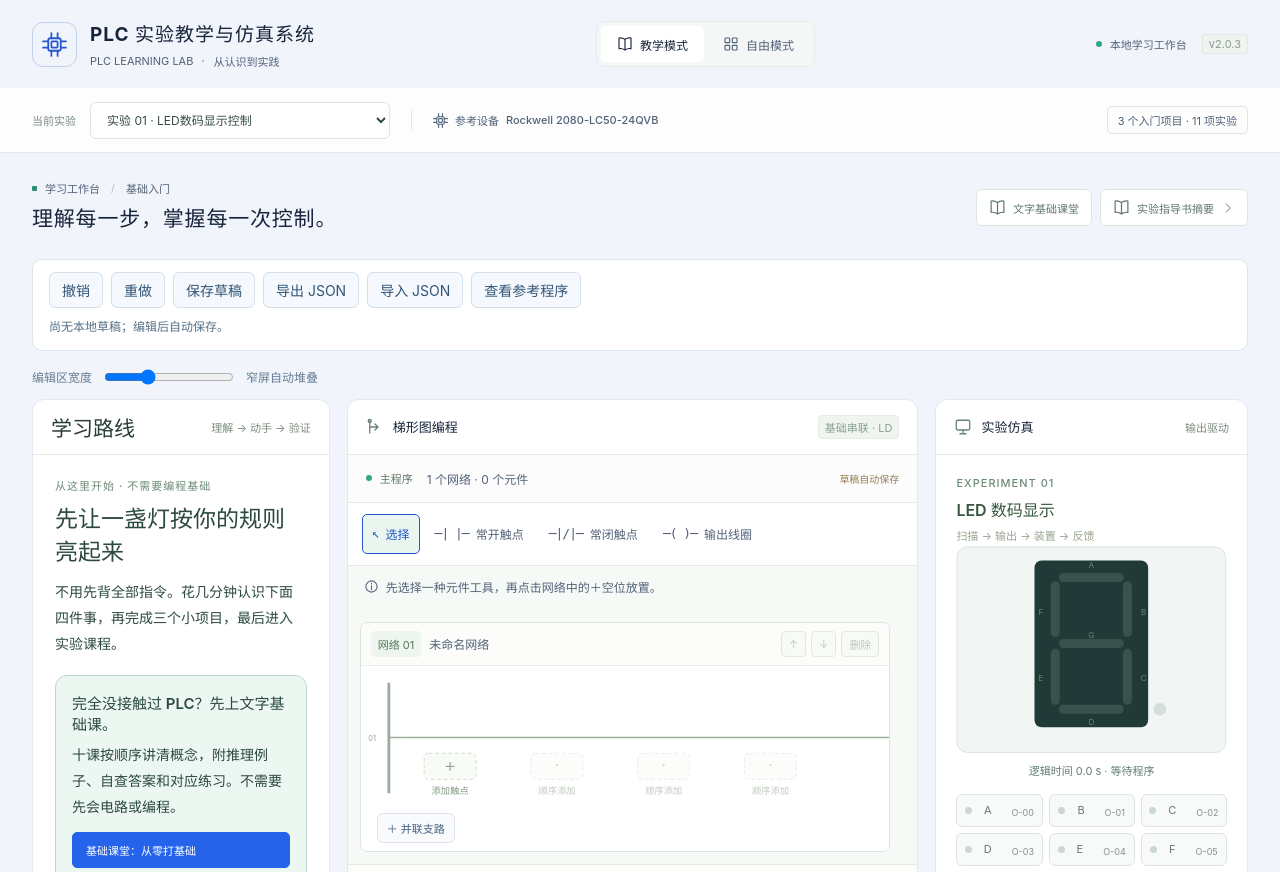
Test case: 损坏的阅读进度回到第一课，不清除程序草稿或自动标记已读
This screenshot has width=1280, height=872.
Click the button "文字基础课堂".
click(1034, 208)  # box [976,189,1092,226]
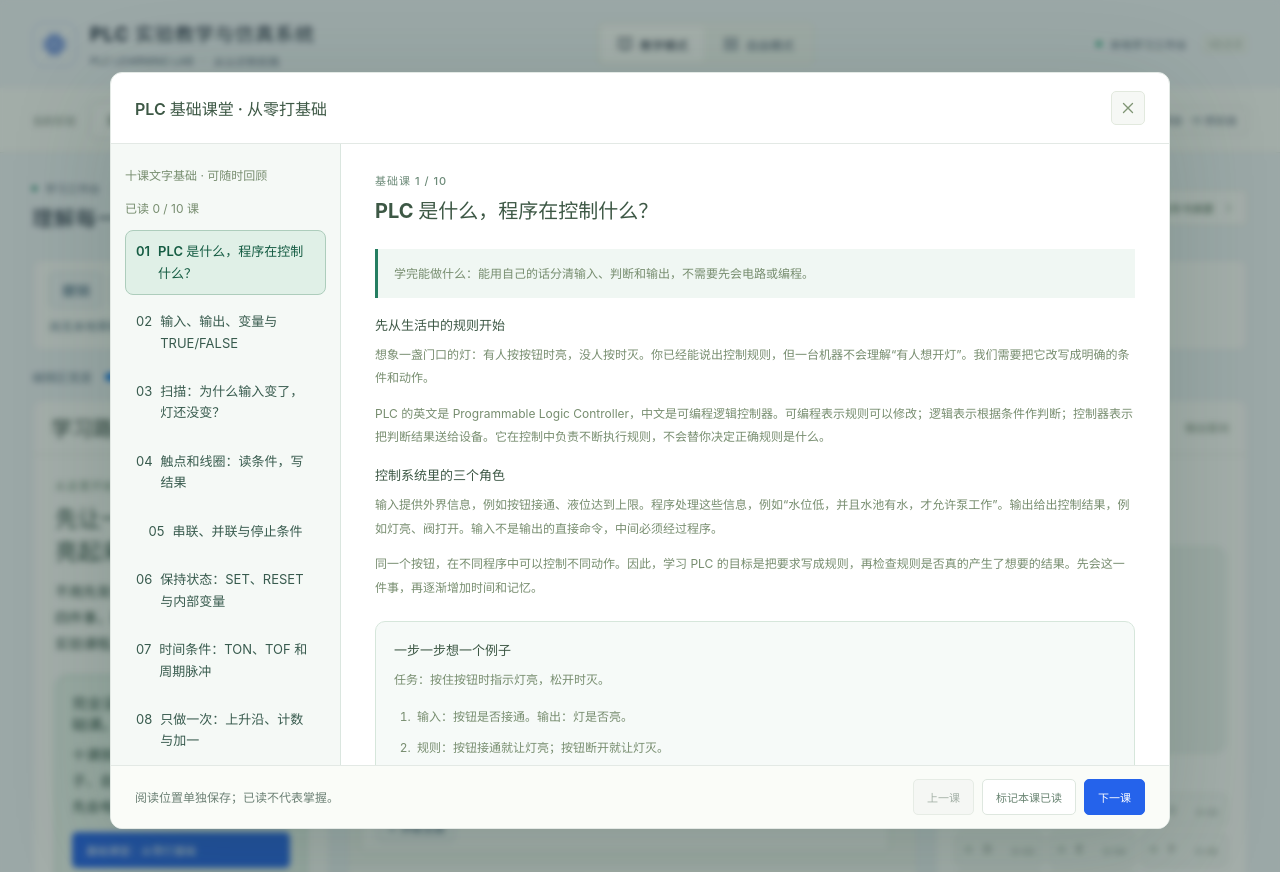
Result: the heading "PLC 是什么，程序在控制什么？" is shown at [375,198,658,222]
Result: the text "已读 0 / 10 课" is shown at [125,201,199,216]
